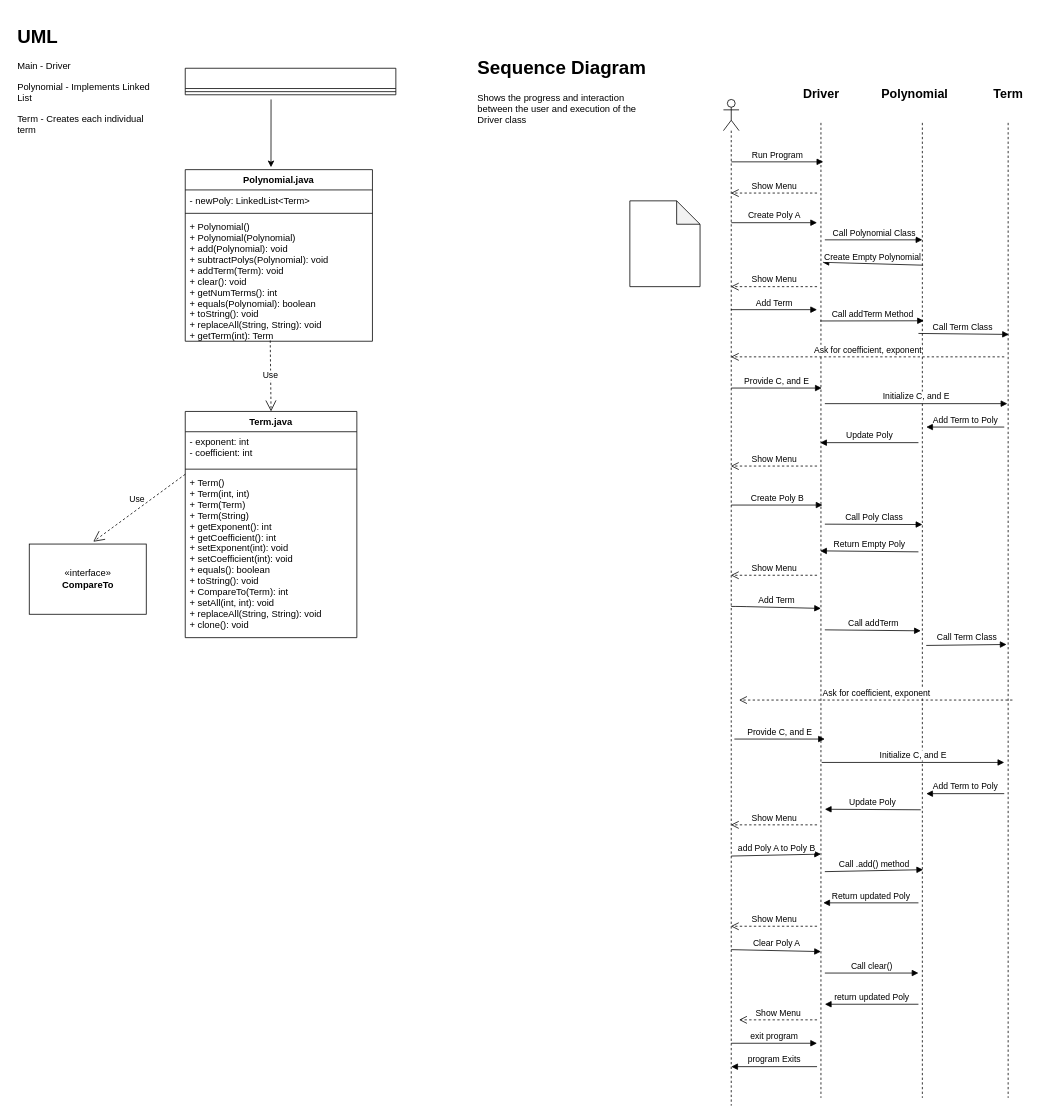
The diagram is 1060 pixels wide and 1119 high, and some of its shapes have lost their labels. The centre of each missing label's shape, as x and y in pixels:
"Main.java (Driver)" goes at point 290,81.
"Note: User can define any number of terms" goes at point 664,243.
